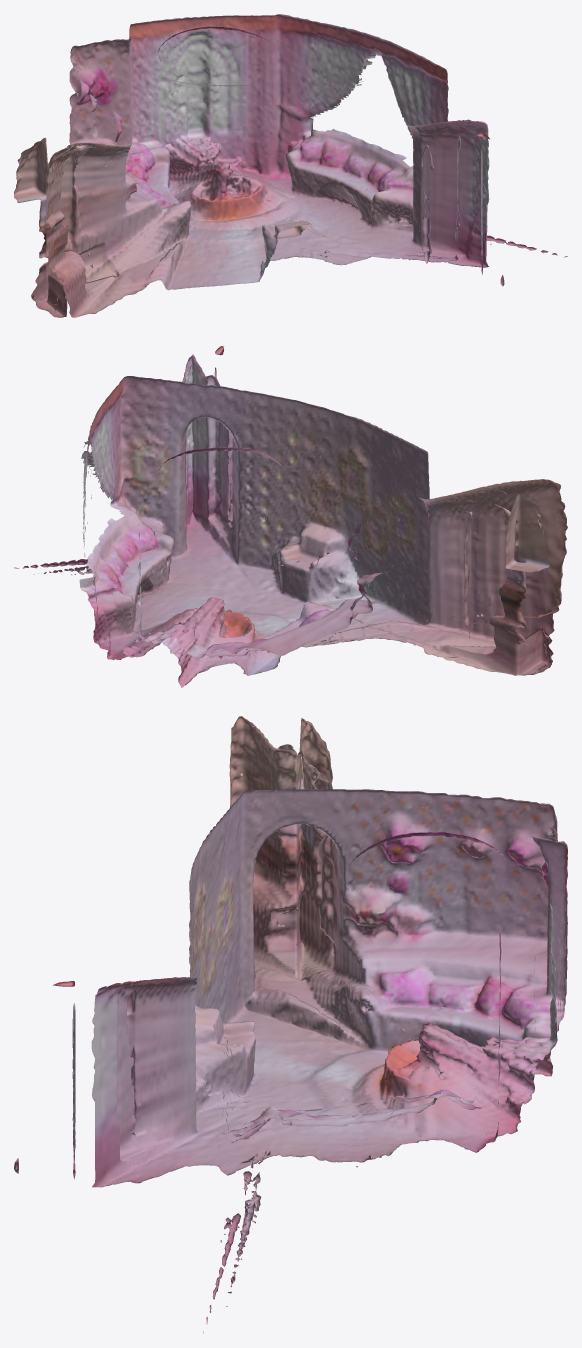
Rendered from sunkissed-sparkle-lounge-1-1-pano-E2_collider.glb.
3 renders of one model, top to bottom at view 1: azimuth 30°, elevation 25°; view 2: azimuth 150°, elevation 25°; view 3: azimuth 270°, elevation 25°, orthographic. The views are drawn at different scales.
Visible parts, largest first — view 1: world; view 2: world; view 3: world.
Part boxes in pixels (bbox=[...]): world: bbox=[14, 14, 567, 317]; world: bbox=[14, 346, 567, 687]; world: bbox=[14, 716, 567, 1333].
Bounding box in the file's own units: 10.33 × 4.11 × 7.04.
